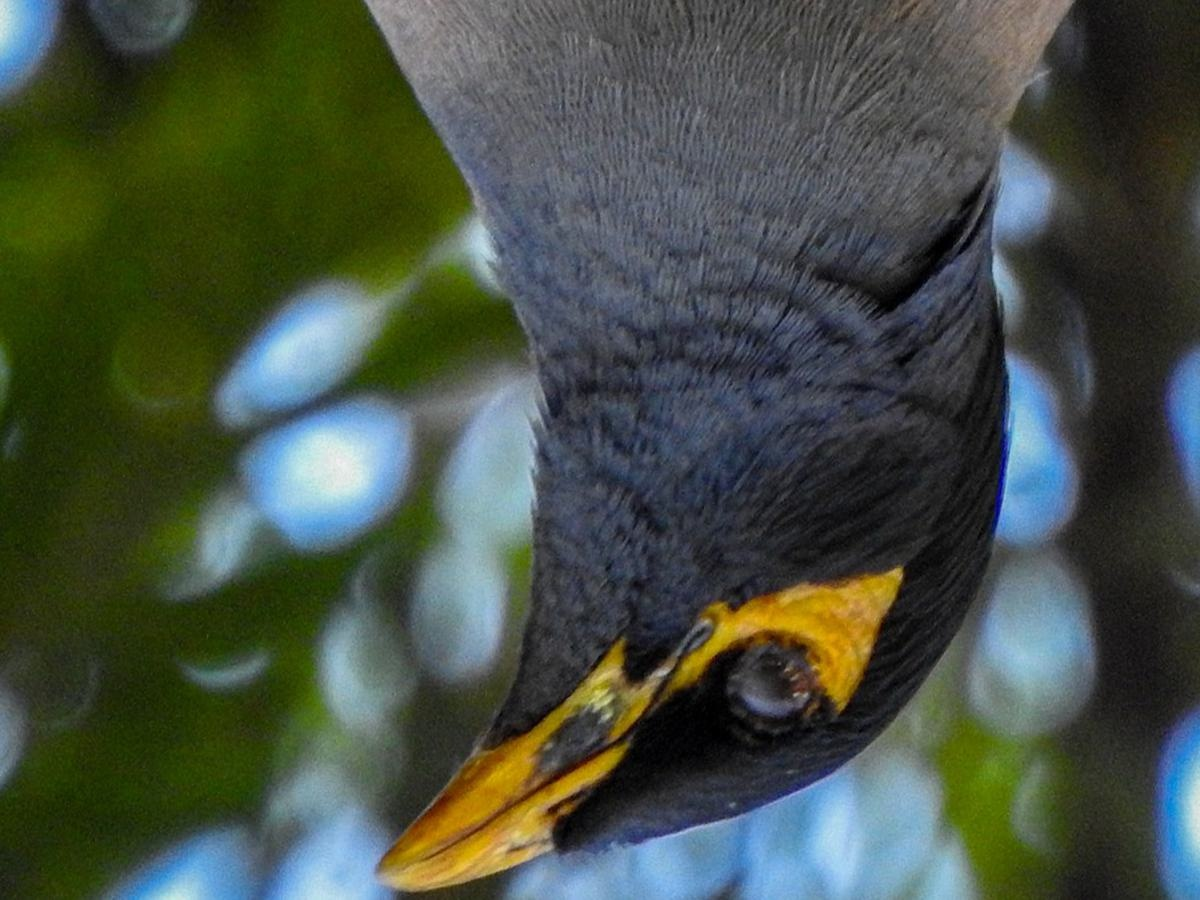myna: (363, 1, 1005, 893)
